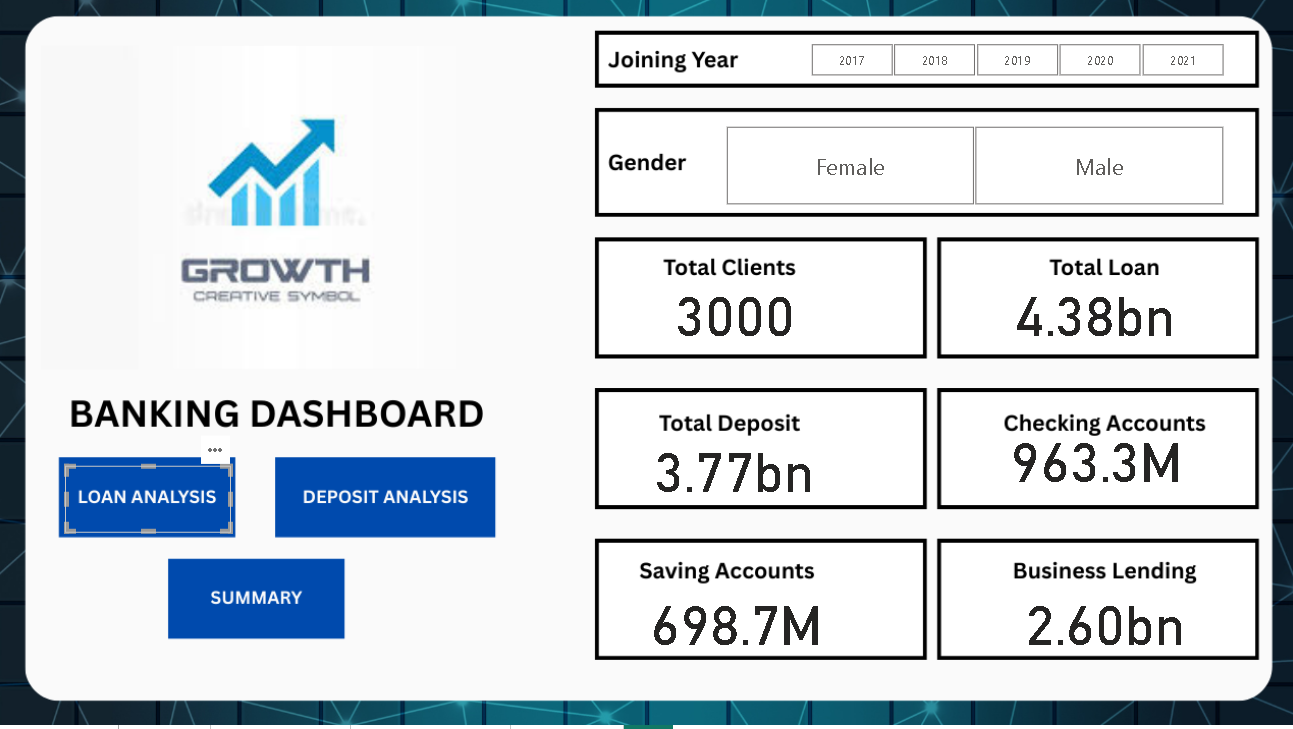

The dashboard page shown, as its layout file describes it:
{"tool":"powerbi","page":{"name":"Home","canvas":[1280,720],"ordinal":0},"visuals":[{"type":"card","fields":{"Values":["CountNonNull(Query1.Name)"]},"box":[630,277.5,193.8,68.8],"z":0},{"type":"slicer","fields":{"Values":["Query1.GenderId"]},"box":[692.1,124.6,537.6,90],"z":1000},{"type":"card","fields":{"Values":["banking_case customers.Total Loan"]},"box":[983.8,277.5,193.8,68.8],"z":2000},{"type":"card","fields":{"Values":["banking_case customers.Total Deposit"]},"box":[630,431.2,193.8,68.8],"z":3000},{"type":"card","fields":{"Values":["Sum(banking_case customers.Checking Accounts)"]},"box":[983.8,432.5,193.8,68.8],"z":4000},{"type":"card","fields":{"Values":["Sum(banking_case customers.Saving Accounts)"]},"box":[631.2,580,193.8,68.8],"z":5000},{"type":"card","fields":{"Values":["Sum(banking_case customers.Business Lending)"]},"box":[993.8,580,193.8,68.8],"z":6000},{"type":"slicer","fields":{"Values":["banking_case customers.Year of Joining"]},"box":[775.6,44.4,454.4,44.4],"z":7000},{"type":"actionButton","box":[68.7,465,163.2,66.3],"z":8000},{"type":"actionButton","box":[283.4,465,202.5,66.3],"z":9000},{"type":"actionButton","box":[174.2,564.4,163.2,66.3],"z":10000}]}

Visuals, with their boxes in screenshot pixels (x1, y1, x2, y2), scaled from the page's 1280x720 canvas onto the 1293x729 screenshot:
card - CountNonNull(Query1.Name): left=636, top=281, right=832, bottom=351
slicer - Query1.GenderId: left=699, top=126, right=1242, bottom=217
card - banking_case customers.Total Loan: left=994, top=281, right=1190, bottom=351
card - banking_case customers.Total Deposit: left=636, top=437, right=832, bottom=506
card - Sum(banking_case customers.Checking Accounts): left=994, top=438, right=1190, bottom=508
card - Sum(banking_case customers.Saving Accounts): left=638, top=587, right=833, bottom=657
card - Sum(banking_case customers.Business Lending): left=1004, top=587, right=1200, bottom=657
slicer - banking_case customers.Year of Joining: left=783, top=45, right=1242, bottom=90
actionButton: left=69, top=471, right=234, bottom=538
actionButton: left=286, top=471, right=491, bottom=538
actionButton: left=176, top=571, right=341, bottom=639
